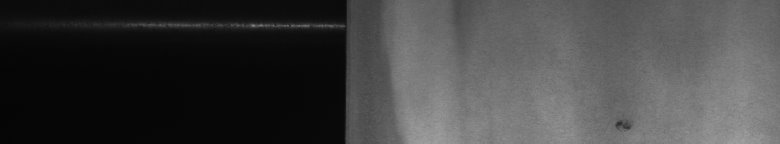fi: (612, 114, 636, 136)
